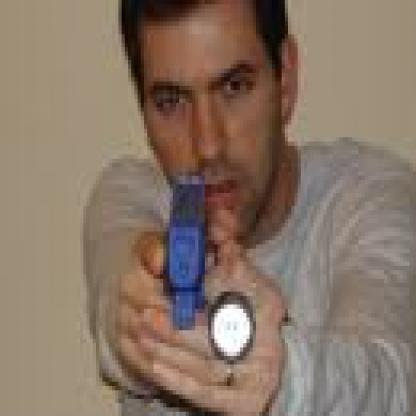gun: (156, 167, 218, 330)
